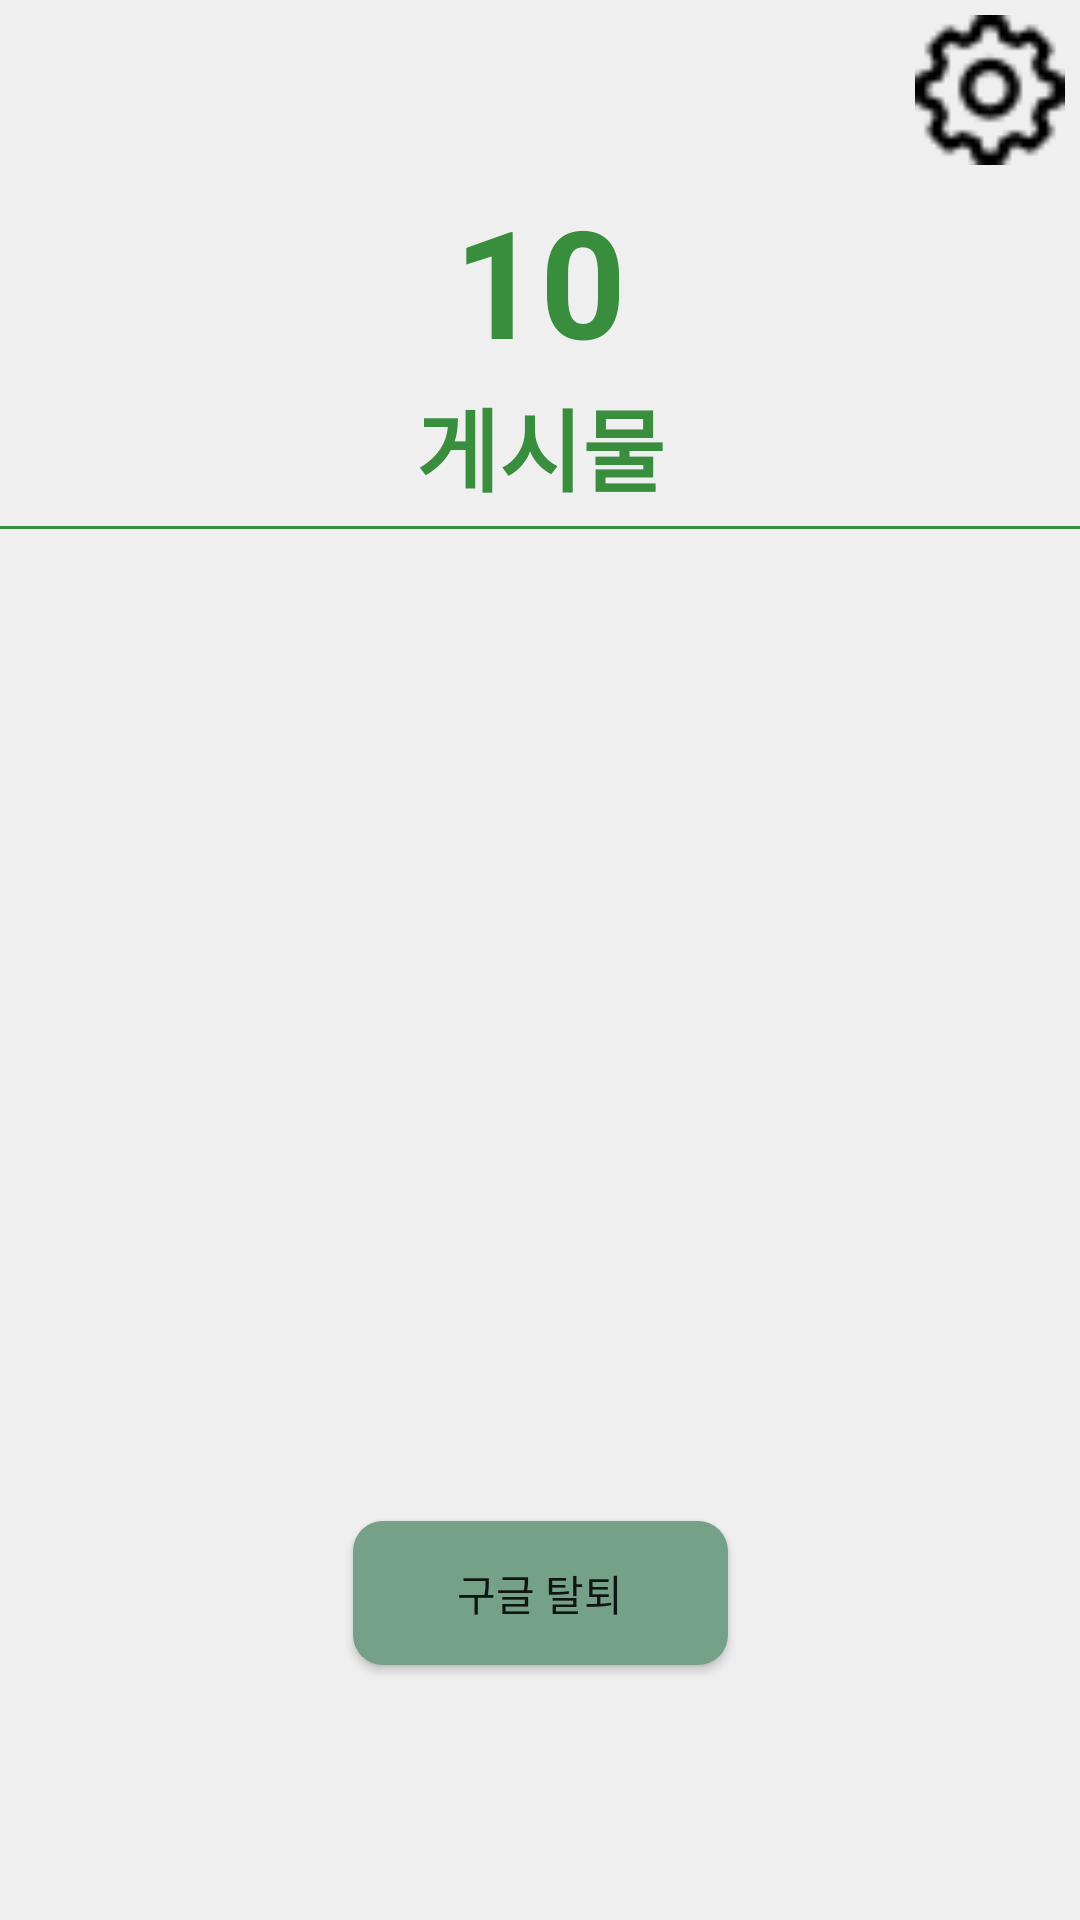

Locate icon controls on the screen. Image size 1080w x 1920h, boxes as [left=x1, top=y1, right=x2, bottom=y2].
settings: [left=915, top=15, right=1065, bottom=165]
